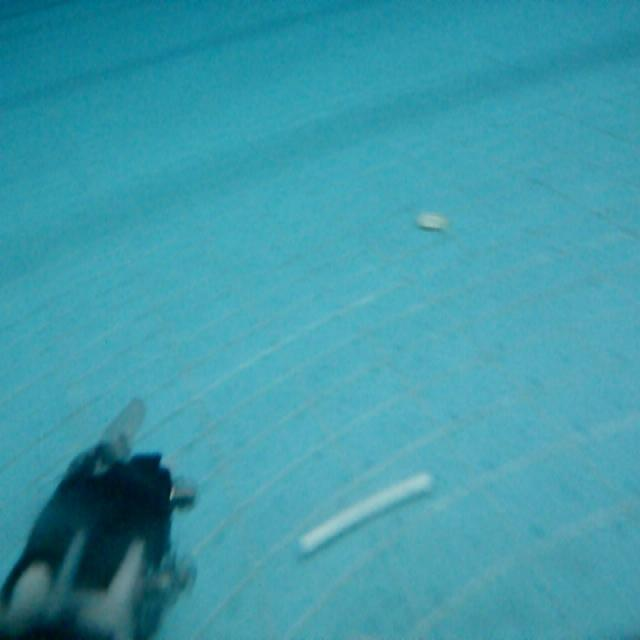Cube: (294, 464, 436, 560)
